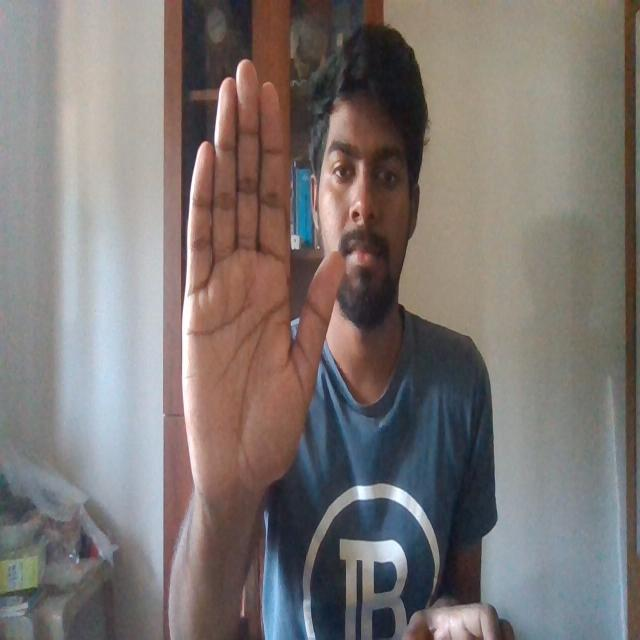Hello: (180, 50, 347, 492)
